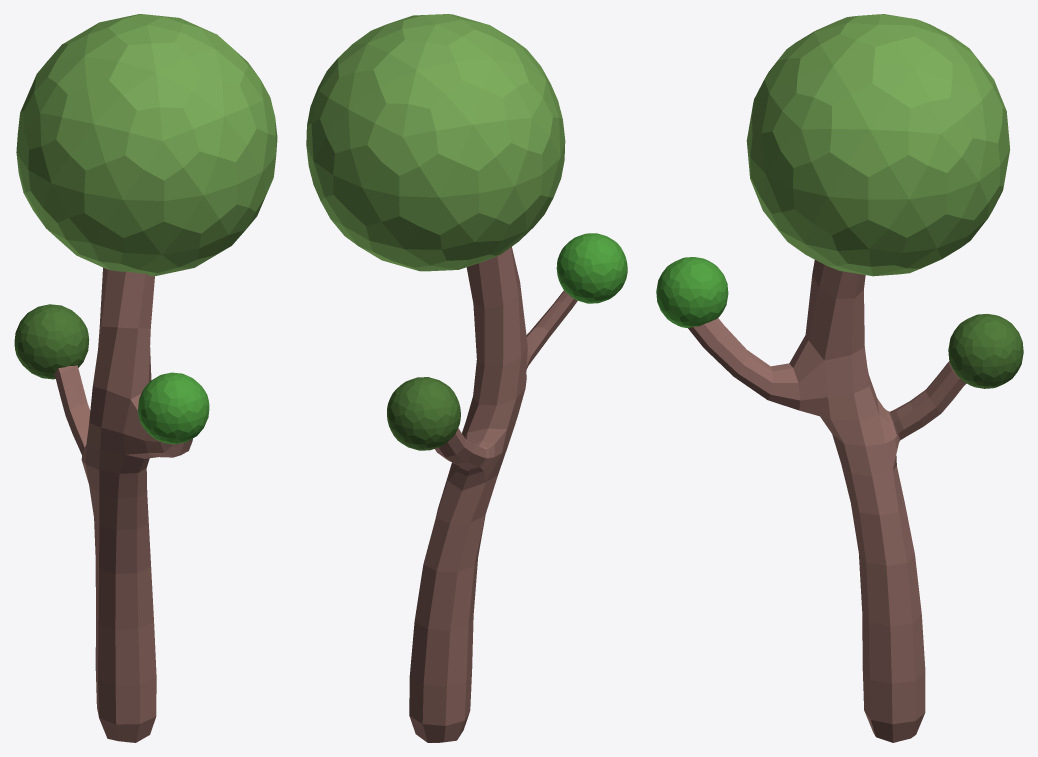
The model's file is tree9.fbx.
3 renders of one model, left to right at view 1: azimuth 30°, elevation 25°; view 2: azimuth 150°, elevation 25°; view 3: azimuth 270°, elevation 25°, orthographic.
Parts seen in each view (by area): view 1: Tree9; view 2: Tree9; view 3: Tree9.
Part boxes in pixels (x1,y1,x2,y2): Tree9: (14, 14, 277, 742); Tree9: (306, 14, 627, 742); Tree9: (656, 14, 1023, 742).
Size of the model in its own units: 210 by 638 by 294.
